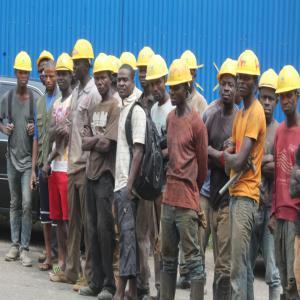none: (118, 65, 136, 99), (46, 61, 58, 91)
yellow: (277, 65, 300, 118), (168, 60, 193, 106), (259, 68, 279, 122), (238, 49, 260, 98), (72, 39, 95, 84), (147, 55, 168, 103), (220, 59, 238, 105), (94, 53, 113, 96), (14, 51, 33, 88), (56, 54, 74, 93), (138, 47, 154, 89), (181, 51, 198, 87), (38, 51, 54, 83)
